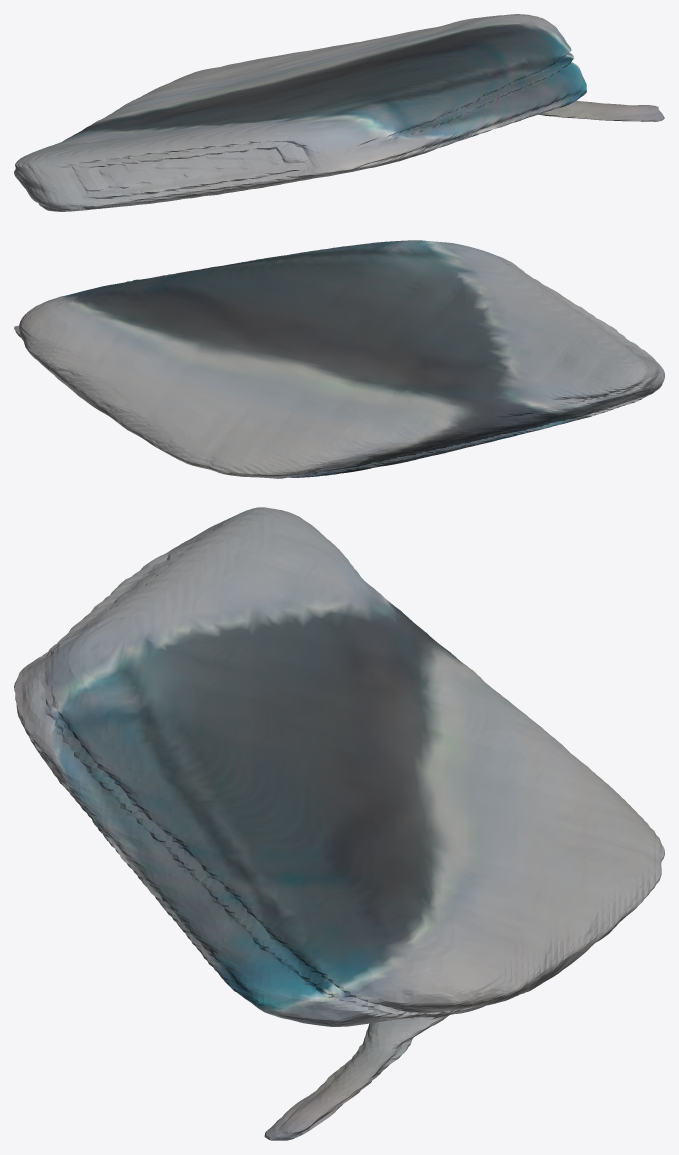
File: dova-module.glb
3 views of the same model, one above another, from view 1: azimuth 30°, elevation 25°; view 2: azimuth 150°, elevation 25°; view 3: azimuth 270°, elevation 25° (orthographic). The views are drawn at different scales.
Parts seen in each view (by area): view 1: world; view 2: world; view 3: world.
Part boxes in pixels (box(x1,y1,x2,y2)): world: box(14, 14, 664, 211); world: box(14, 240, 664, 478); world: box(14, 507, 664, 1140).
Bounding box in the file's own units: 1.1 × 0.22 × 0.64.
